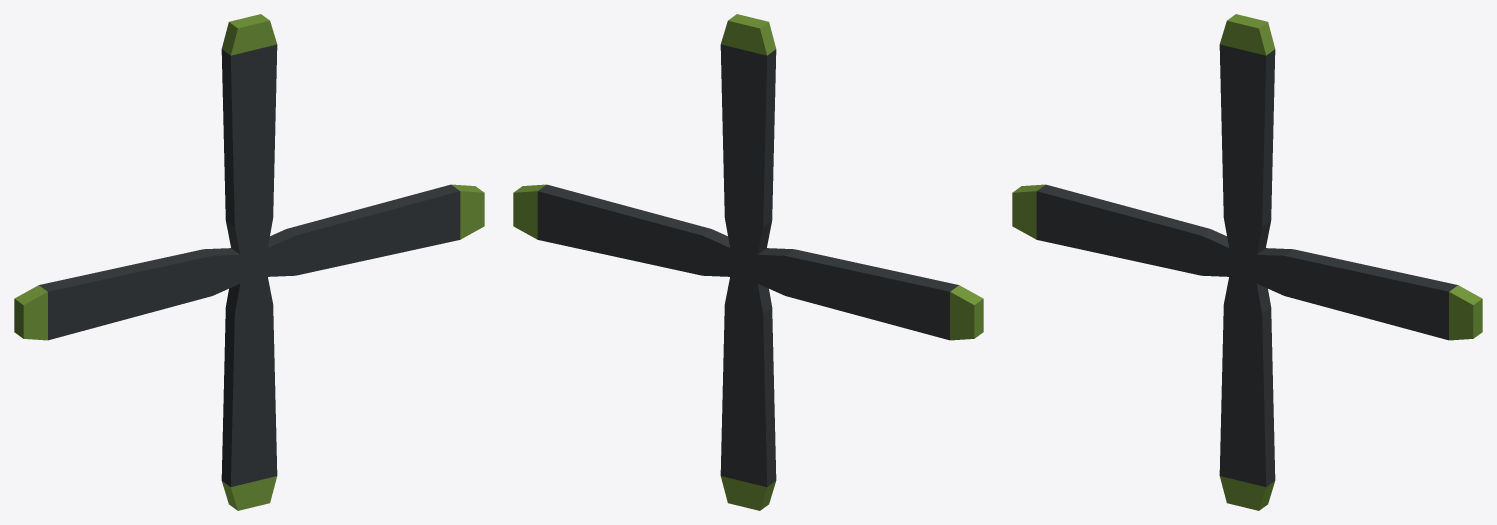
The picture shows the model from 3 angles, left to right: view 1: azimuth 30°, elevation 25°; view 2: azimuth 150°, elevation 25°; view 3: azimuth 330°, elevation 25°; orthographic projection.
Visible parts, largest first — view 1: Plane_05_2; view 2: Plane_05_2; view 3: Plane_05_2.
Boxes of the visible parts, x1,y1,x2,y2 form: Plane_05_2: (14,14,484,510); Plane_05_2: (513,14,983,510); Plane_05_2: (1012,14,1482,510).
Bounding box in the file's own units: 1.72 × 1.72 × 0.0587.
